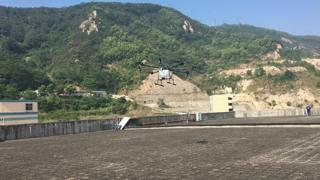UAV: (133, 58, 199, 87)
